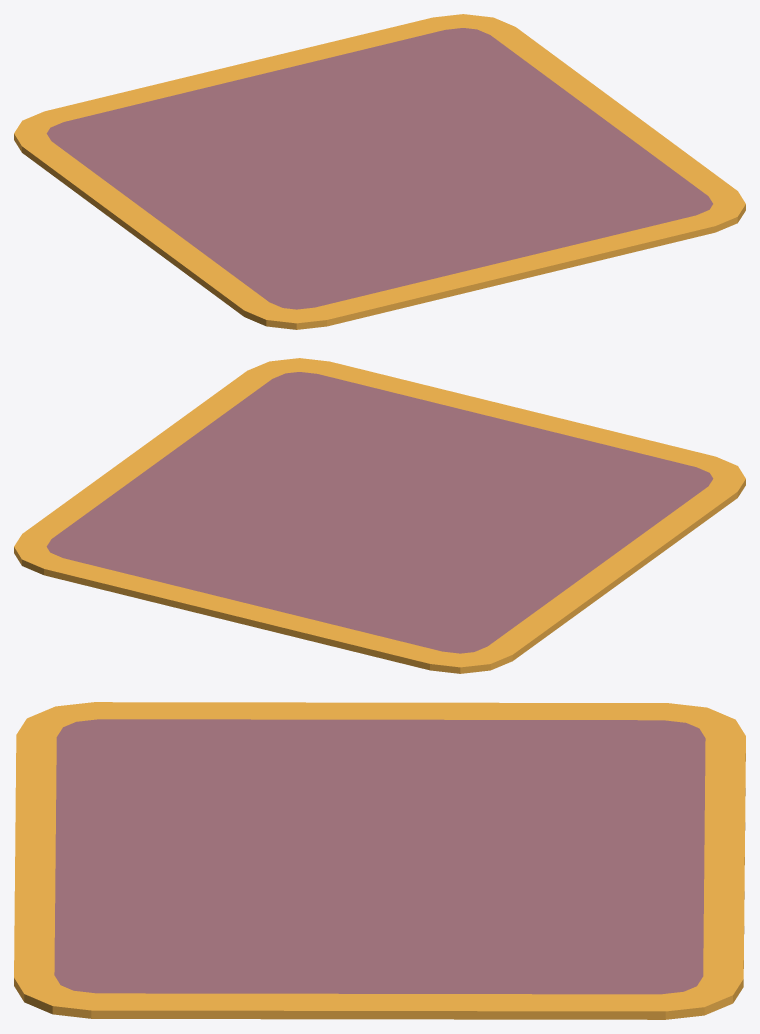
Rendered from Mouse_pad01.fbx.
The picture shows the model from 3 angles, top to bottom: view 1: azimuth 30°, elevation 25°; view 2: azimuth 150°, elevation 25°; view 3: azimuth 270°, elevation 25°; orthographic projection. The views are drawn at different scales.
Visible parts, largest first — view 1: Plane.298; view 2: Plane.298; view 3: Plane.298.
Boxes of the visible parts, x1,y1,x2,y2 form: Plane.298: [14, 14, 745, 329]; Plane.298: [14, 358, 745, 673]; Plane.298: [14, 702, 745, 1019].
Bounding box in the file's own units: 0.6153 × 0.6153 × 0.00777.
